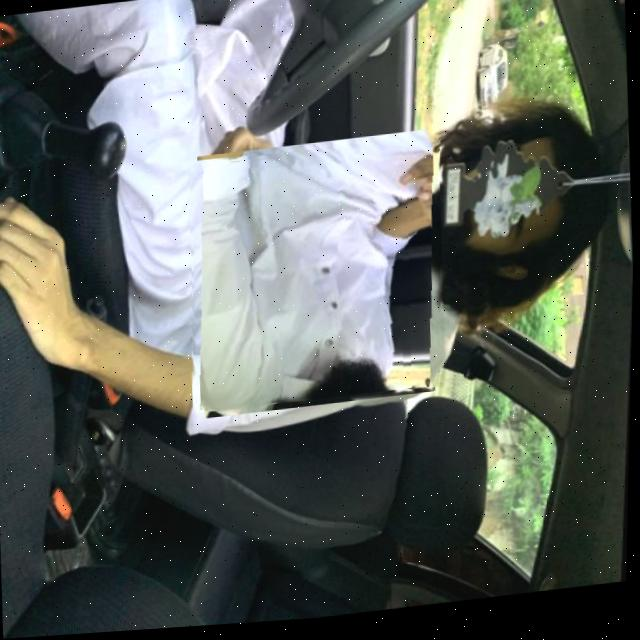no-seatbelt: (183, 140, 451, 418)
